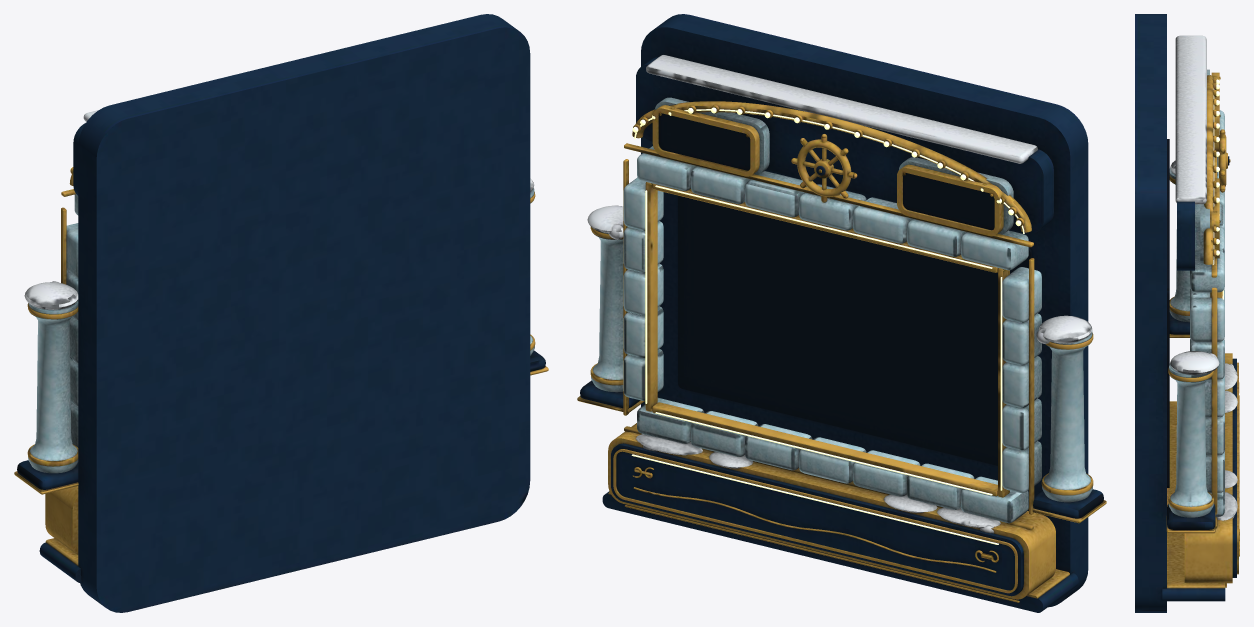
3 renders of one model, left to right at view 1: azimuth 30°, elevation 25°; view 2: azimuth 150°, elevation 25°; view 3: azimuth 270°, elevation 25°, orthographic. The views are drawn at different scales.
Parts seen in each view (by area): view 1: Deep_navy_enamel, Soft_frosted_polar_ice, Polished_honey_gold, Soft_fresh_snow; view 2: Deep_navy_enamel, Uniform_dark_display, Soft_frosted_polar_ice, Polished_honey_gold, Soft_fresh_snow, Warm_bulb_and_trim_glow; view 3: Deep_navy_enamel, Polished_honey_gold, Soft_frosted_polar_ice, Soft_fresh_snow, Uniform_dark_display, Warm_bulb_and_trim_glow.
Boxes of the visible parts, x1,y1,x2,y2 form: Deep_navy_enamel: (17,14,545,612); Soft_frosted_polar_ice: (28,188,534,473); Polished_honey_gold: (14,167,548,565); Soft_fresh_snow: (24,110,534,309); Deep_navy_enamel: (580,14,1103,612); Uniform_dark_display: (658,113,1031,465); Soft_frosted_polar_ice: (591,97,1092,523); Polished_honey_gold: (577,101,1106,602); Soft_fresh_snow: (587,55,1092,533); Warm_bulb_and_trim_glow: (631,107,1024,544); Deep_navy_enamel: (1135,14,1236,612); Polished_honey_gold: (1166,72,1239,588); Soft_frosted_polar_ice: (1168,69,1224,517); Soft_fresh_snow: (1170,35,1237,520); Uniform_dark_display: (1167,139,1169,487); Warm_bulb_and_trim_glow: (1212,79,1239,528).
Bounding box in the file's own units: 10.02 × 9.3 × 2.04.
6 materials, 5 textured.
